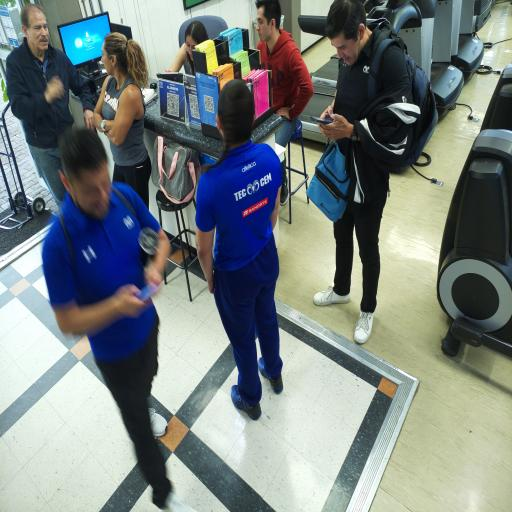person: (43, 129, 171, 509), (314, 0, 419, 343), (196, 80, 282, 419), (7, 4, 94, 205), (94, 33, 151, 206), (256, 0, 313, 147), (166, 21, 208, 75)
